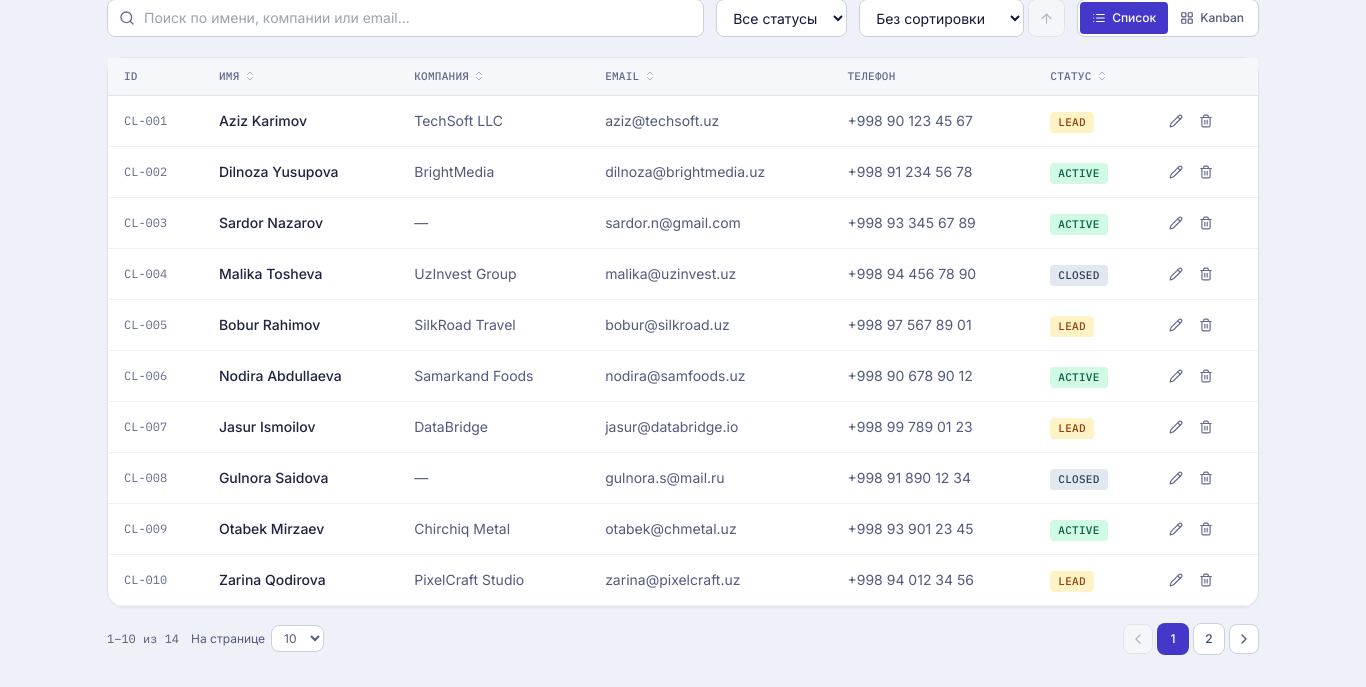
Test case: list, stats and pagination › changes the page size and returns to page 1
(page scrolled)
Click the button named "Следующая страница" at (1244, 638), box [1229, 624, 1259, 654]
(page scrolled)
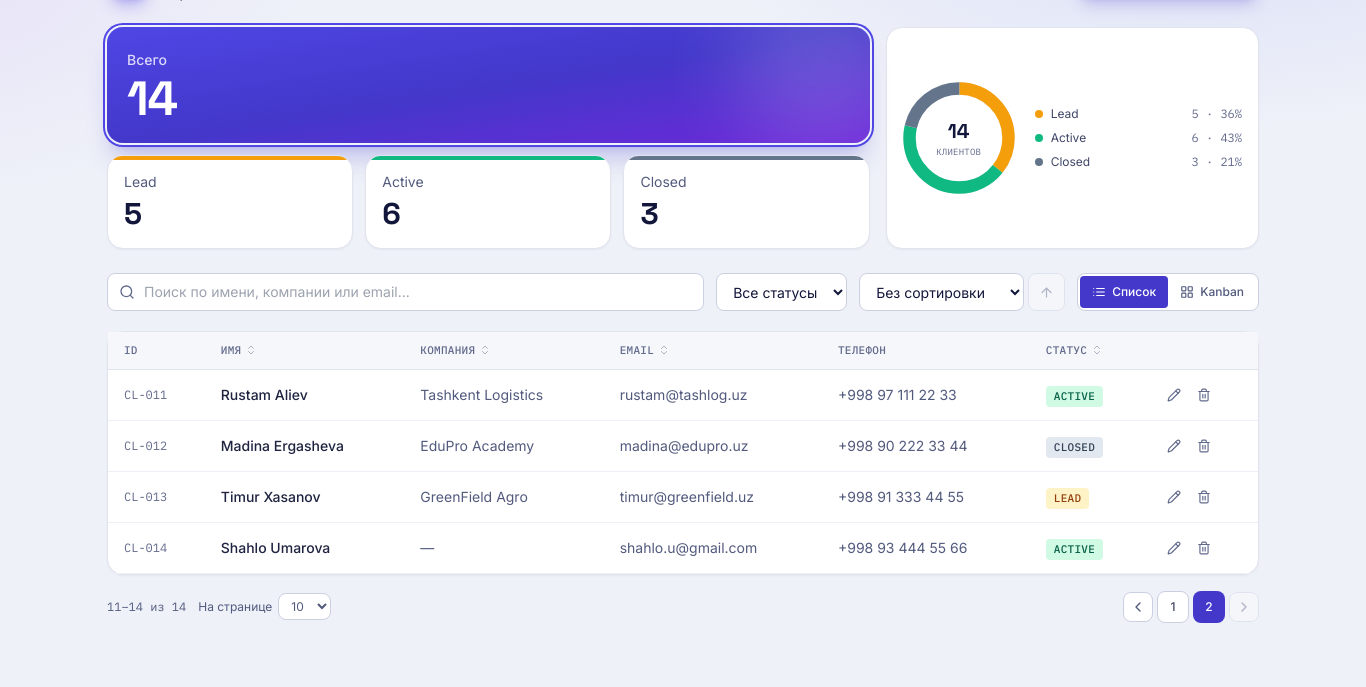
Select "5" in the dropdown labelled "На странице" at (305, 606), box [278, 593, 331, 620]
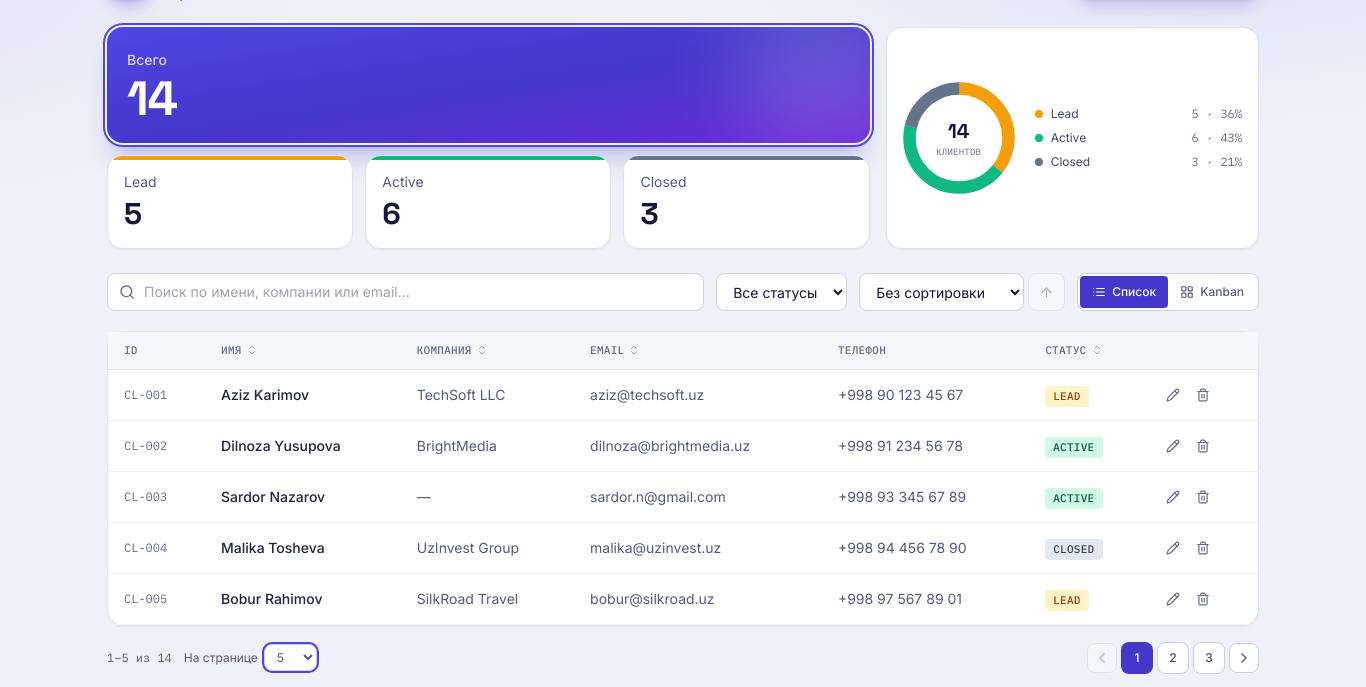
Expected: the text "1–5 из 14" is shown, [107, 650, 172, 666]
